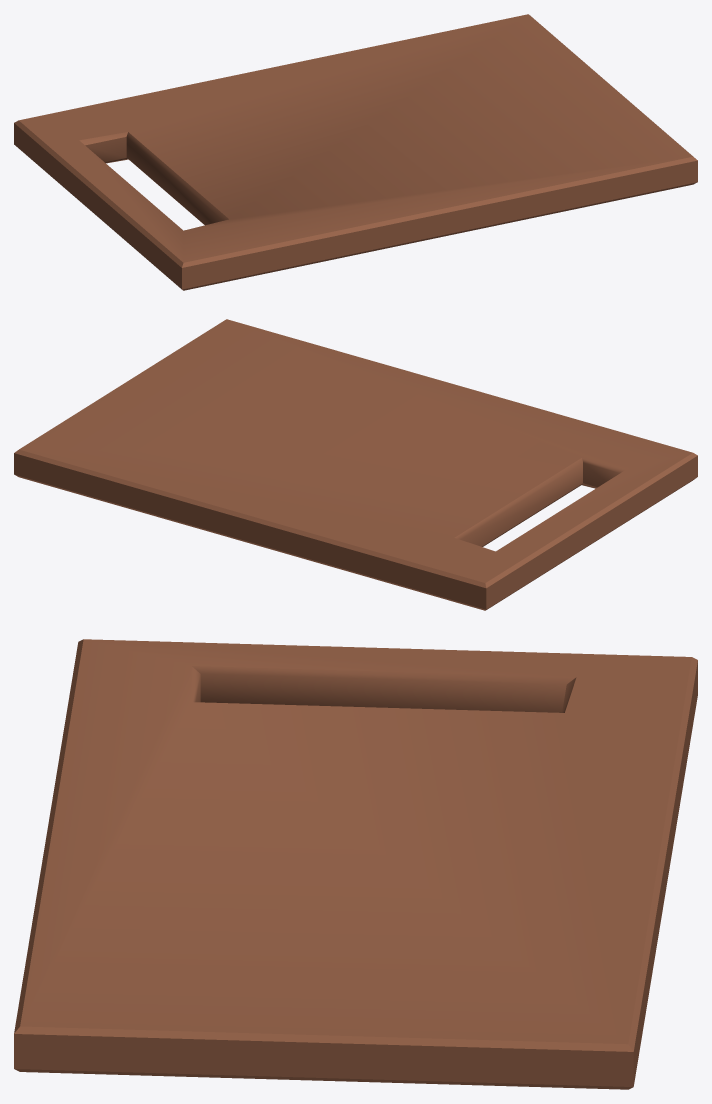
The model's file is CuttingBoard.fbx.
3 renders of one model, top to bottom at view 1: azimuth 30°, elevation 25°; view 2: azimuth 150°, elevation 25°; view 3: azimuth 270°, elevation 25°, orthographic. The views are drawn at different scales.
Parts seen in each view (by area): view 1: CuttingBoard; view 2: CuttingBoard; view 3: CuttingBoard.
Part boxes in pixels (left/top/right/bottom): CuttingBoard: left=14, top=14, right=697, bottom=290; CuttingBoard: left=14, top=319, right=697, bottom=610; CuttingBoard: left=14, top=639, right=697, bottom=1089.
Size of the model in its own units: 130 by 6.91 by 91.35.
